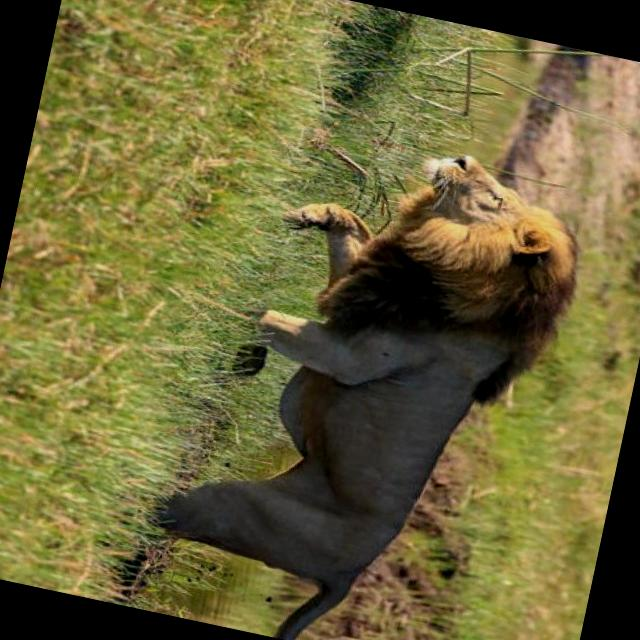lions: (116, 63, 640, 640)
